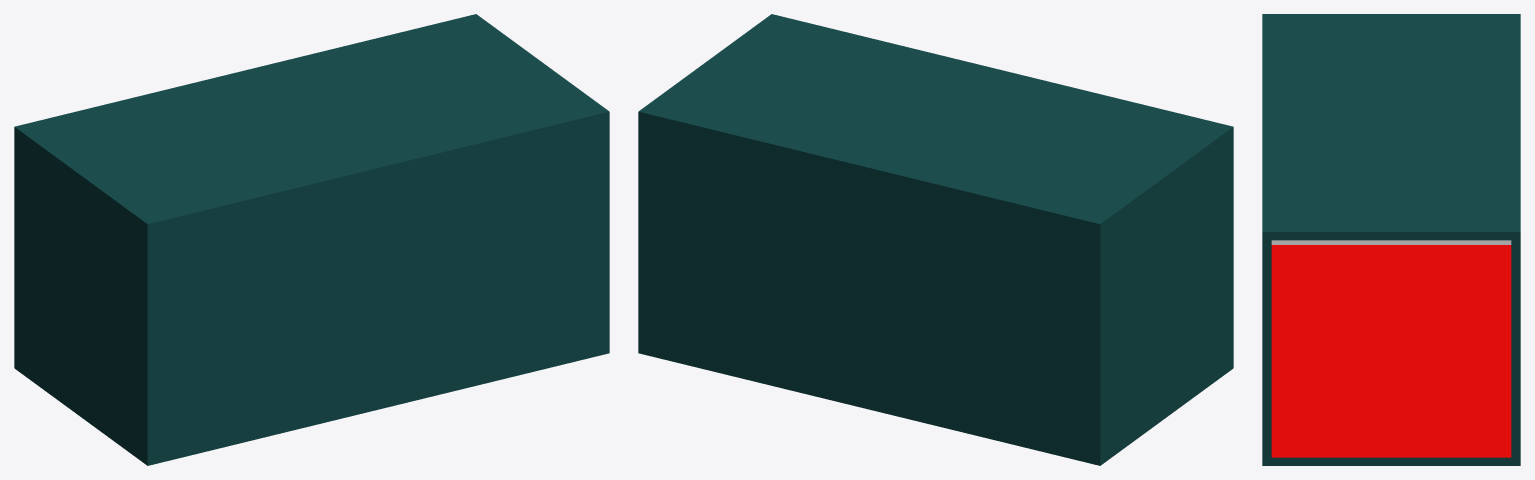
3 views of the same model, side by side, from view 1: azimuth 30°, elevation 25°; view 2: azimuth 150°, elevation 25°; view 3: azimuth 270°, elevation 25° (orthographic). The views are drawn at different scales.
Parts seen in each view (by area): view 1: SM_box1x1; view 2: SM_box1x1; view 3: SM_box1x1.
Part boxes in pixels (bbox=[...]): SM_box1x1: bbox=[14, 14, 609, 465]; SM_box1x1: bbox=[638, 14, 1233, 465]; SM_box1x1: bbox=[1262, 14, 1520, 465].
Bounding box in the file's own units: 400 × 200 × 200.
